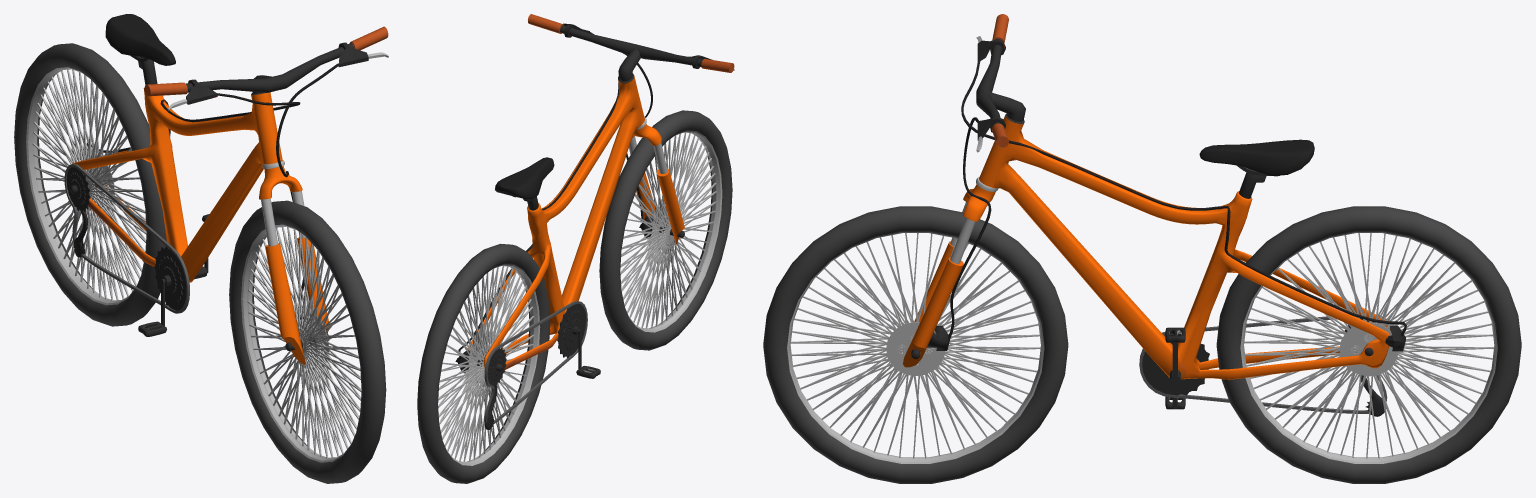
Rendered from readabilityanalysis-bicycle.glb.
The picture shows the model from 3 angles, left to right: view 1: azimuth 30°, elevation 25°; view 2: azimuth 150°, elevation 25°; view 3: azimuth 270°, elevation 25°; orthographic projection. The views are drawn at different scales.
Parts seen in each view (by area): view 1: FrontWheel, RearWheel, Bicycle, Handle, Seat, Pedalier, Chain; view 2: FrontWheel, RearWheel, Bicycle, Handle, Seat, Pedalier, Chain; view 3: FrontWheel, RearWheel, Bicycle, Handle, Seat, Pedalier, Chain.
Part boxes in pixels (x1,y1,x2,y2): FrontWheel: (229, 200, 386, 483); RearWheel: (14, 43, 166, 326); Bicycle: (70, 88, 300, 282); Handle: (144, 26, 388, 364); Seat: (105, 14, 175, 84); Pedalier: (154, 221, 208, 325); Chain: (64, 163, 189, 313); FrontWheel: (599, 110, 732, 350); RearWheel: (417, 243, 550, 483); Bicycle: (455, 56, 692, 429); Handle: (528, 14, 734, 244); Seat: (495, 157, 554, 210); Pedalier: (557, 303, 585, 369); Chain: (484, 301, 587, 424); FrontWheel: (763, 206, 1068, 483); RearWheel: (1216, 206, 1521, 483); Bicycle: (961, 59, 1406, 416); Handle: (903, 14, 1025, 367); Seat: (1199, 139, 1314, 198); Pedalier: (1142, 334, 1209, 408); Chain: (1139, 315, 1390, 413).
Bounding box in the file's own units: 0.6603 × 1.03 × 1.73.
2 materials, 1 textured.
